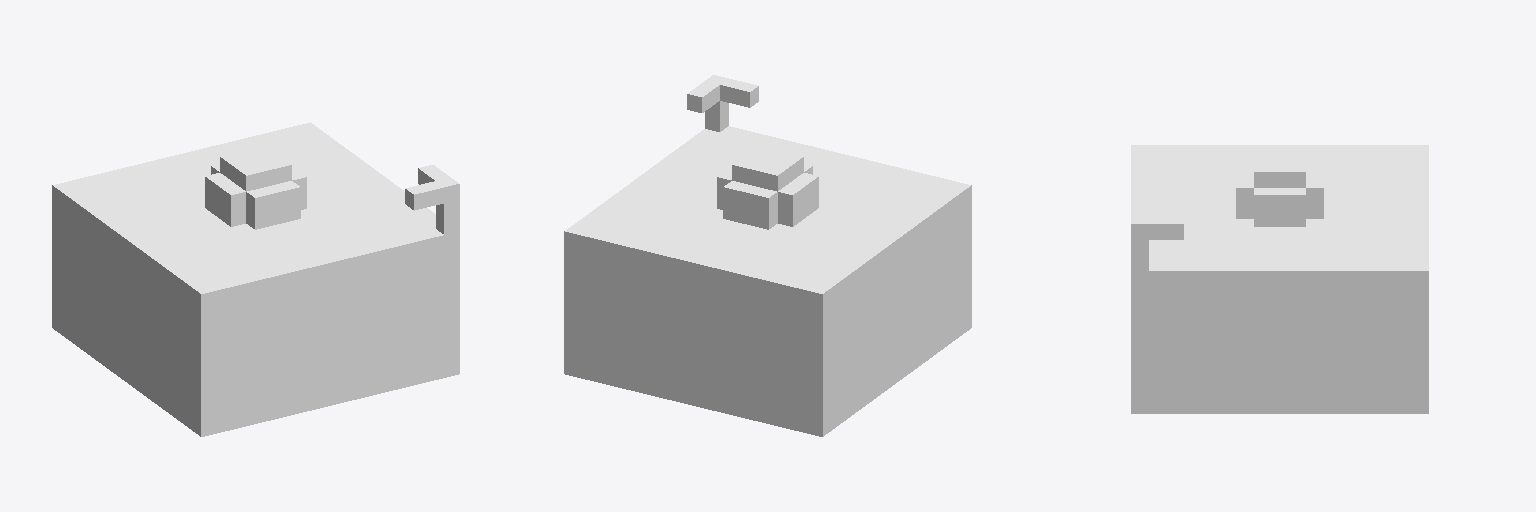
File: Start A.obj
3 renders of one model, left to right at view 1: azimuth 30°, elevation 25°; view 2: azimuth 150°, elevation 25°; view 3: azimuth 270°, elevation 25°, orthographic.
Parts seen in each view (by area): view 1: Flat_World__115_-60_55_to_131_-49_71; view 2: Flat_World__115_-60_55_to_131_-49_71; view 3: Flat_World__115_-60_55_to_131_-49_71.
Part boxes in pixels (x1,y1,x2,y2): Flat_World__115_-60_55_to_131_-49_71: (52,122,459,436); Flat_World__115_-60_55_to_131_-49_71: (564,75,971,436); Flat_World__115_-60_55_to_131_-49_71: (1131,145,1428,413).
Bounding box in the file's own units: 17 × 12 × 17.